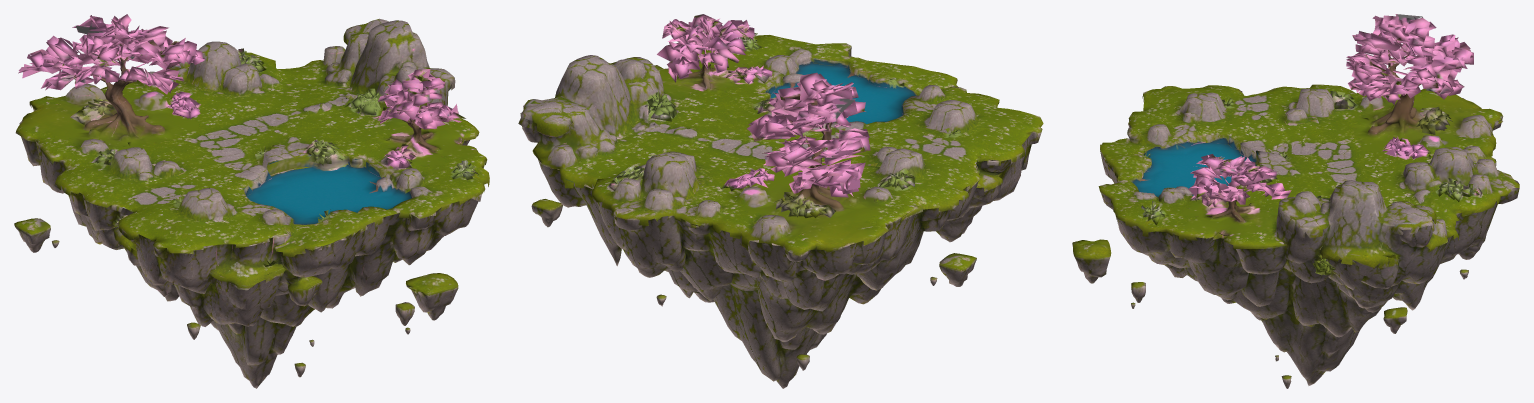
The model's file is Meshy_AI_Blossom_Sky_Isle_20261118_texture.fbx.
3 renders of one model, left to right at view 1: azimuth 30°, elevation 25°; view 2: azimuth 150°, elevation 25°; view 3: azimuth 270°, elevation 25°, orthographic. The views are drawn at different scales.
Visible parts, largest first — view 1: Mesh_0; view 2: Mesh_0; view 3: Mesh_0.
Part boxes in pixels (x1=…): Mesh_0: x1=14, y1=14, x2=489, y2=388; Mesh_0: x1=518, y1=14, x2=1043, y2=388; Mesh_0: x1=1072, y1=14, x2=1519, y2=388.
Bounding box in the file's own units: 95.02 × 77.29 × 95.9.
Materials: 1 (1 with a texture image).
